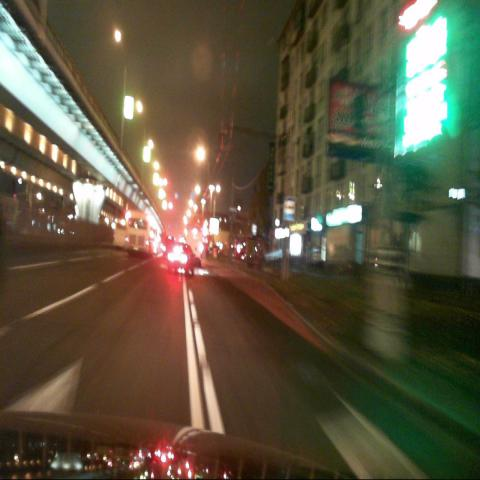5_16: (284, 196, 294, 222)
